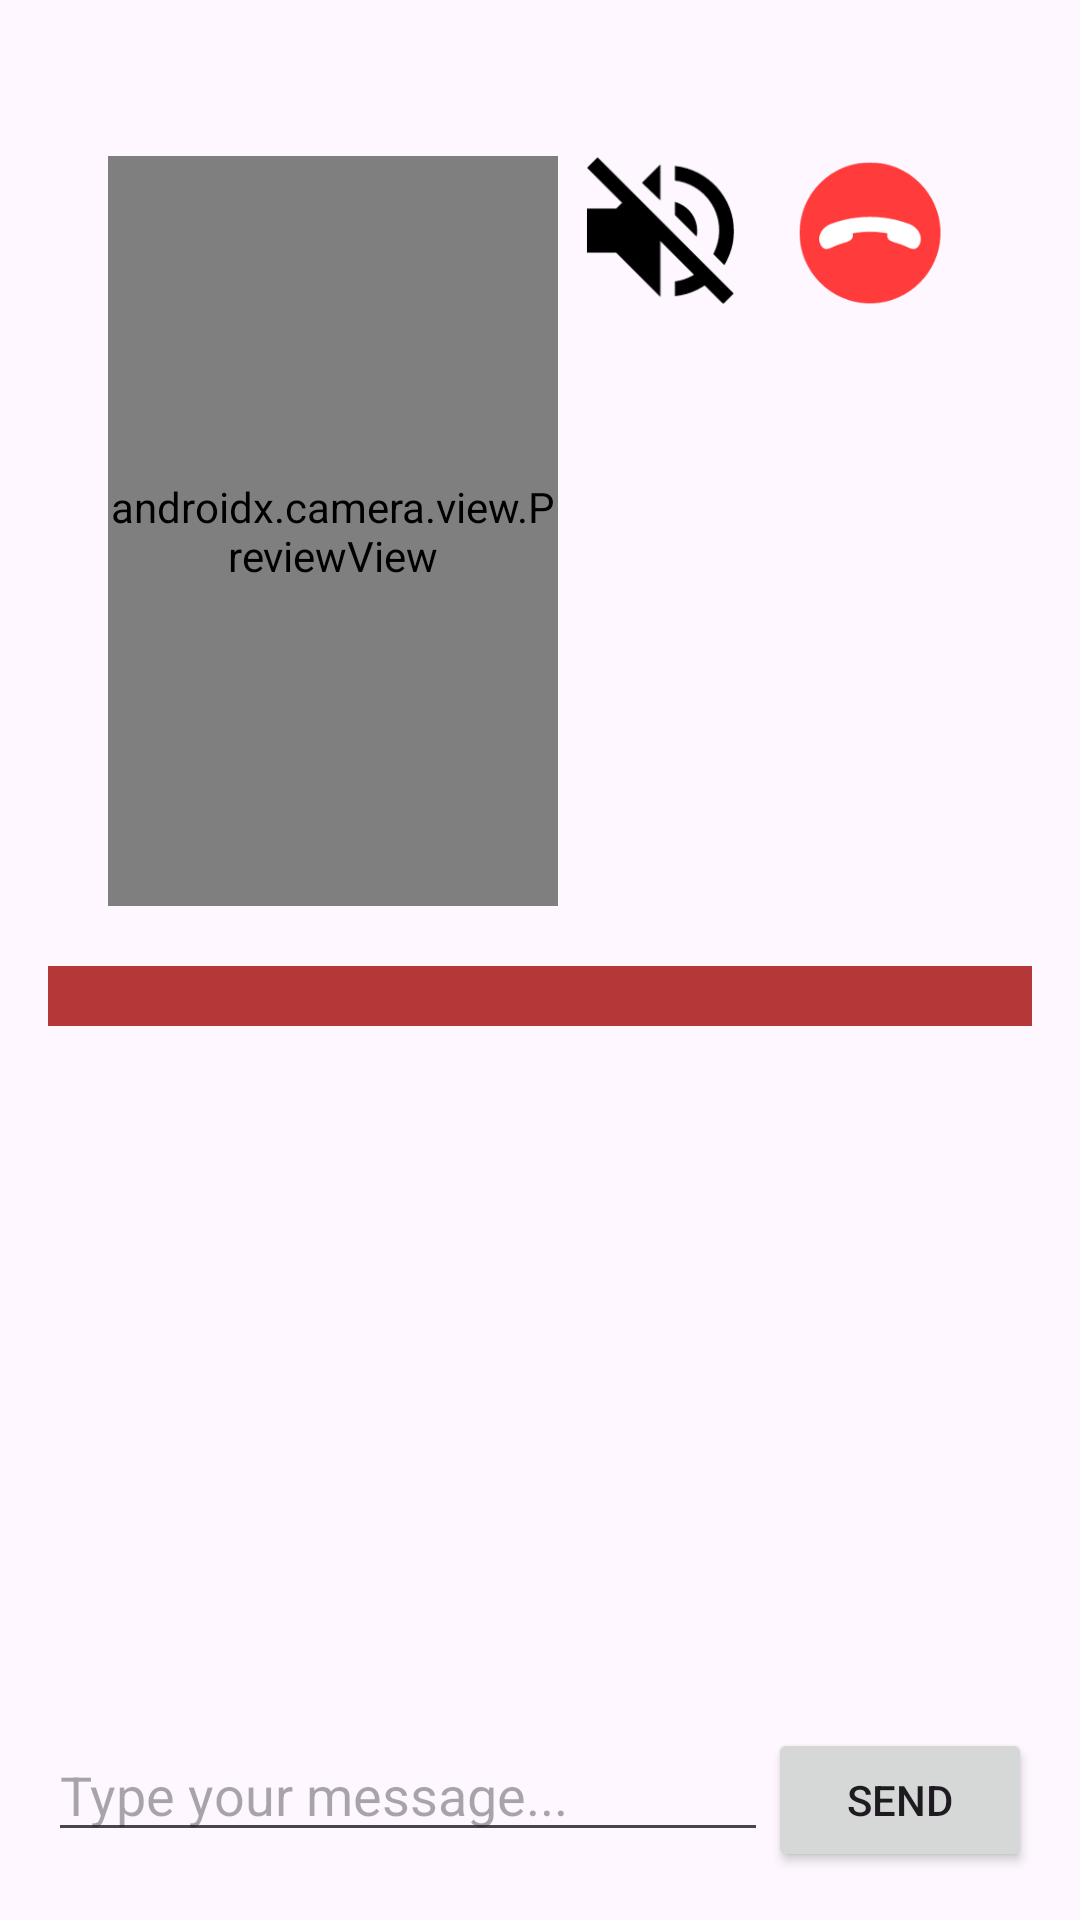

Named icons in this screenshot (1080×1920) and their centers, [x,y]:
speaker: [660,230]
